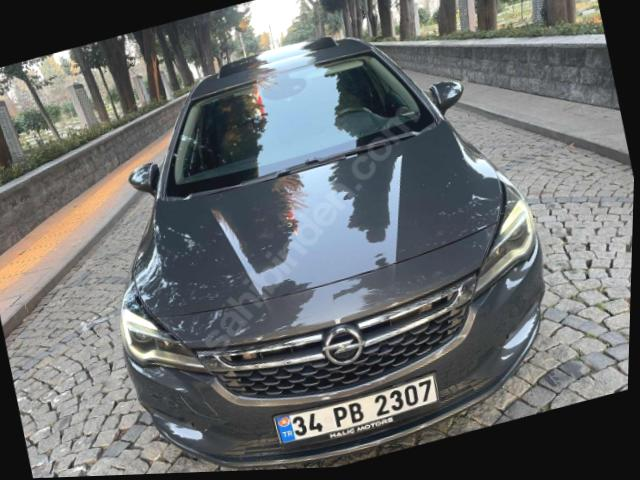plaka: (275, 373, 438, 442)
